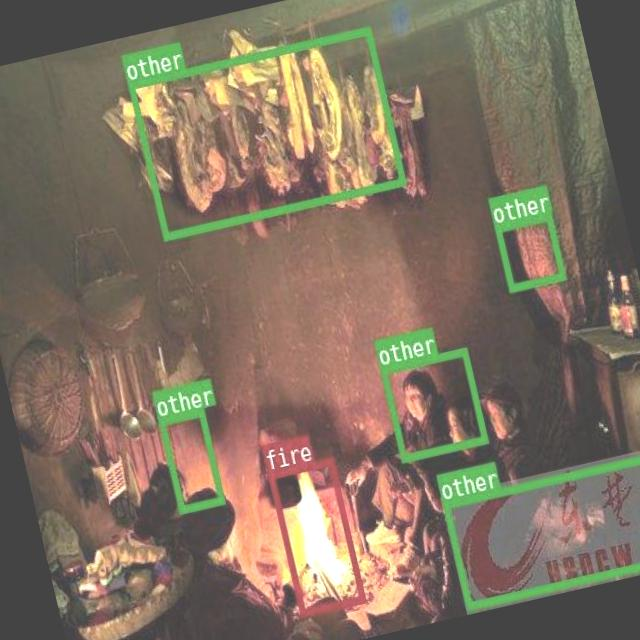fire: (266, 456, 365, 616)
